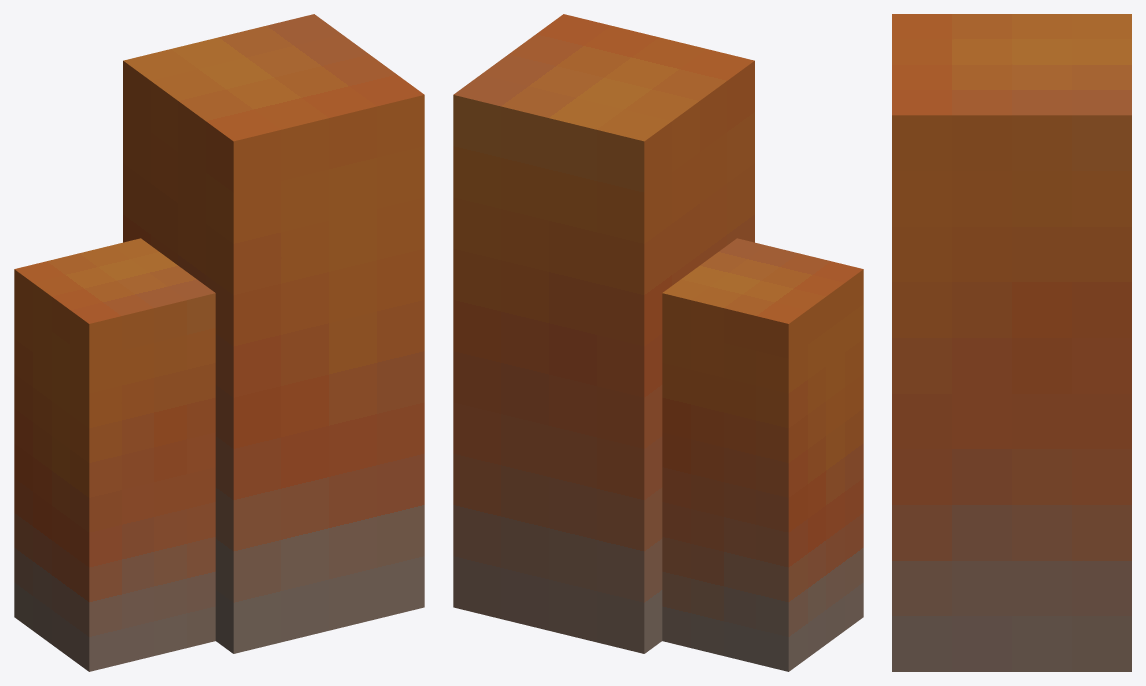
File: scheelite_crystal_two.obj
The picture shows the model from 3 angles, left to right: view 1: azimuth 30°, elevation 25°; view 2: azimuth 150°, elevation 25°; view 3: azimuth 270°, elevation 25°; orthographic projection. The views are drawn at different scales.
Visible parts, largest first — view 1: Crystal1_Cube, Crystal1.001_Cube.005; view 2: Crystal1_Cube, Crystal1.001_Cube.005; view 3: Crystal1_Cube.
Boxes of the visible parts, x1,y1,x2,y2 form: Crystal1_Cube: (123,14,424,653); Crystal1.001_Cube.005: (14,238,215,671); Crystal1_Cube: (453,14,754,653); Crystal1.001_Cube.005: (662,238,863,671); Crystal1_Cube: (892,14,1131,671).
Bounding box in the file's own units: 0.3244 × 0.5 × 0.1952.
